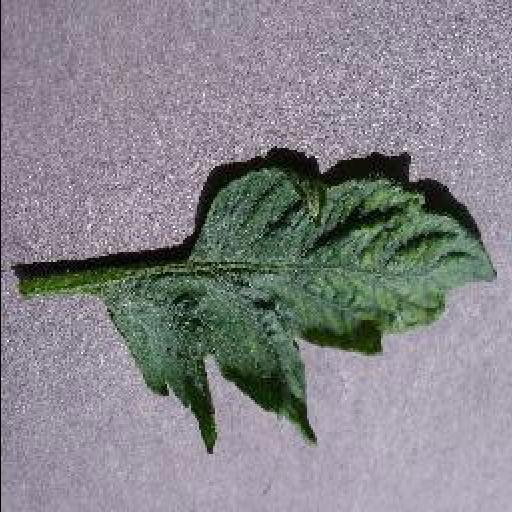disease_tomato: (92, 156, 500, 454)
